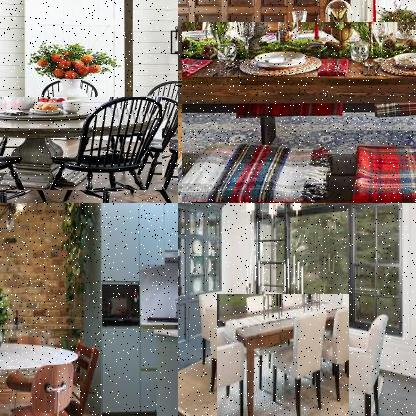table: (182, 22, 415, 202), (217, 294, 351, 415), (0, 96, 164, 192), (0, 328, 82, 415)
